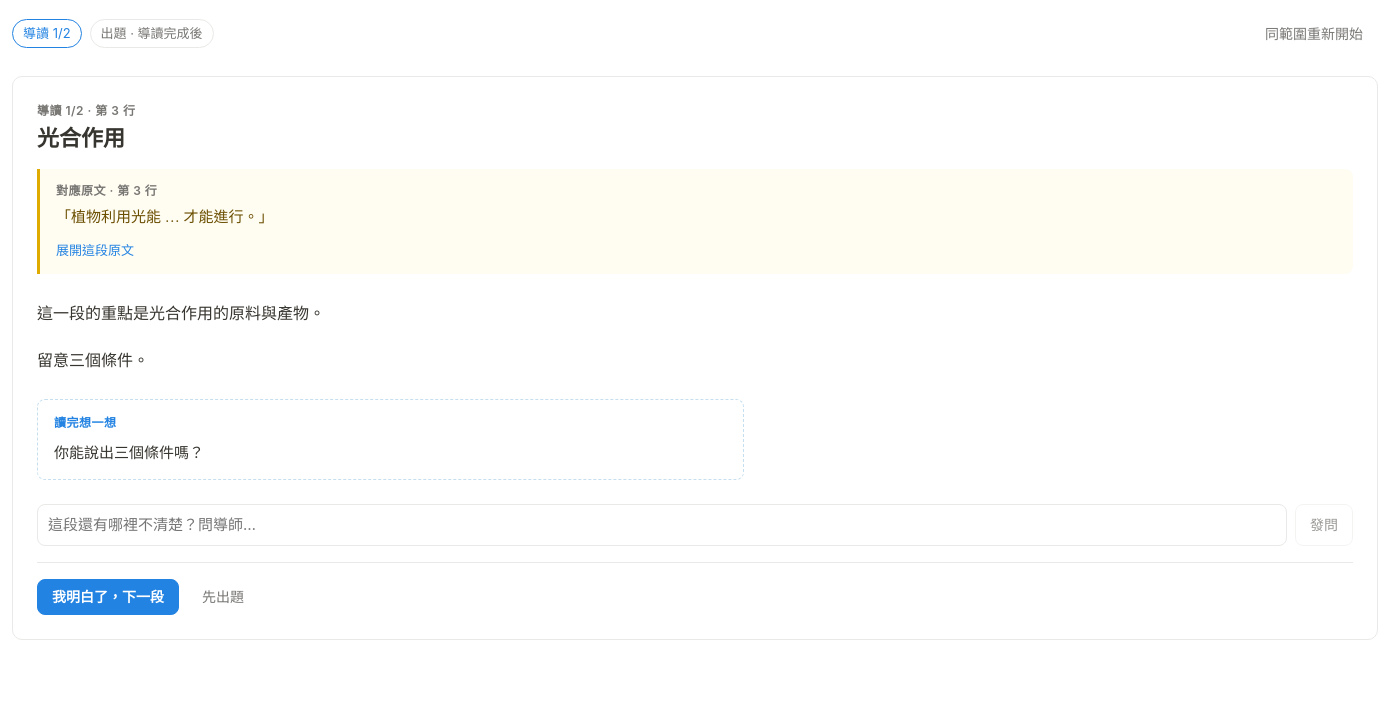
Test case: 導讀 (ReadingPanel) › fetches the guide of the current quote, lets the student ask, then moves on
Expected: the element with test id "reading" shows "導讀 1/2", [37, 103, 135, 118]
Expected: the text with test id "reading-step" reads "導讀 1/2", [23, 25, 71, 41]
In the field named "還有不懂的地方": (662, 525) [37, 504, 1287, 546], type "葉綠體是什麼？"
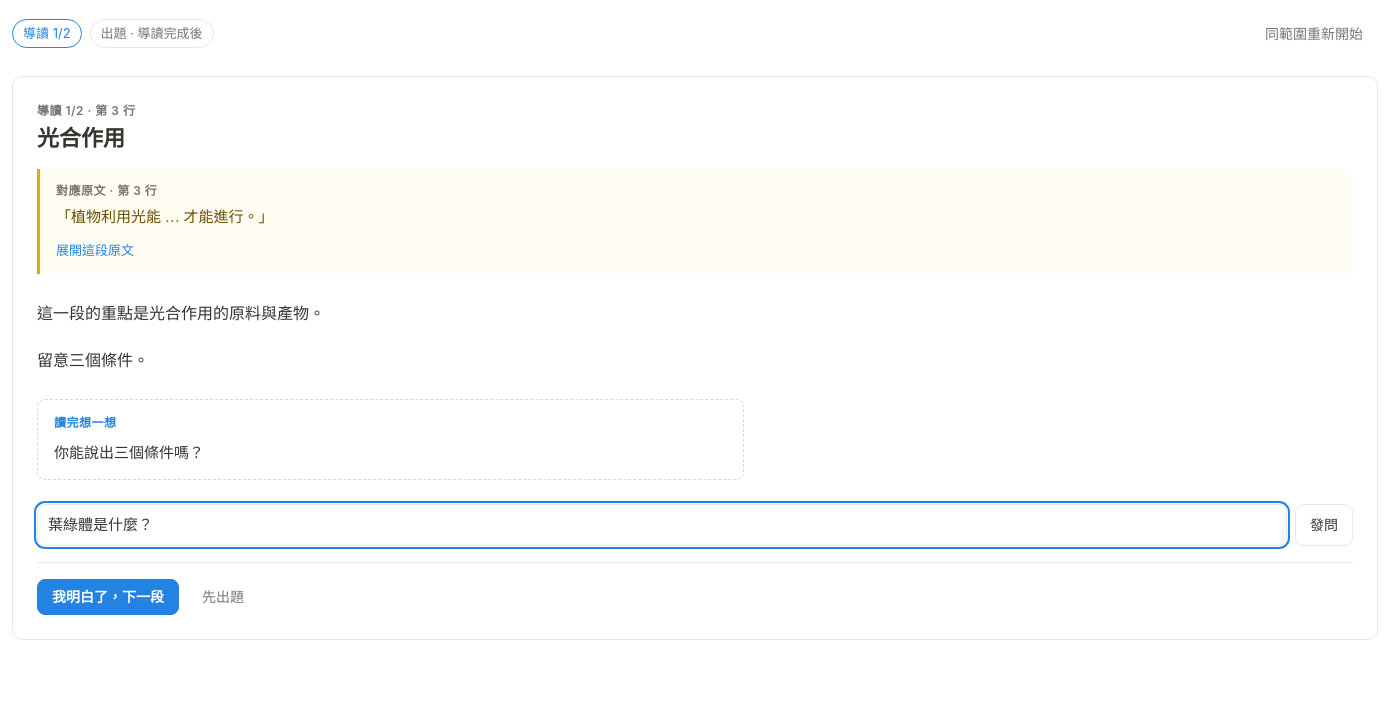
Click the button "發問": (1324, 525) [1295, 504, 1353, 546]
(page scrolled)
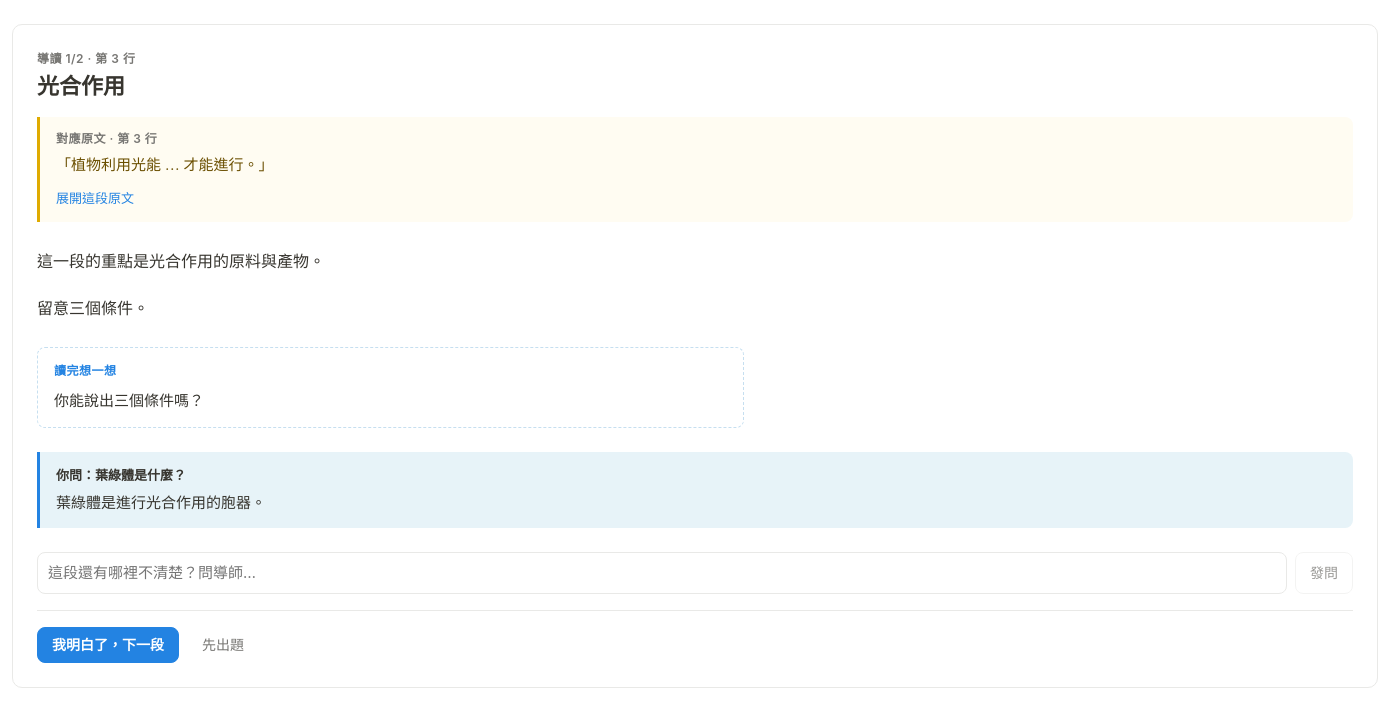
Expected: the element with test id "qa" shows "葉綠體是進行光合作用的胞器", [56, 493, 266, 512]
Click the button "我明白了，下一段": (108, 645) [37, 627, 179, 663]
(page scrolled)
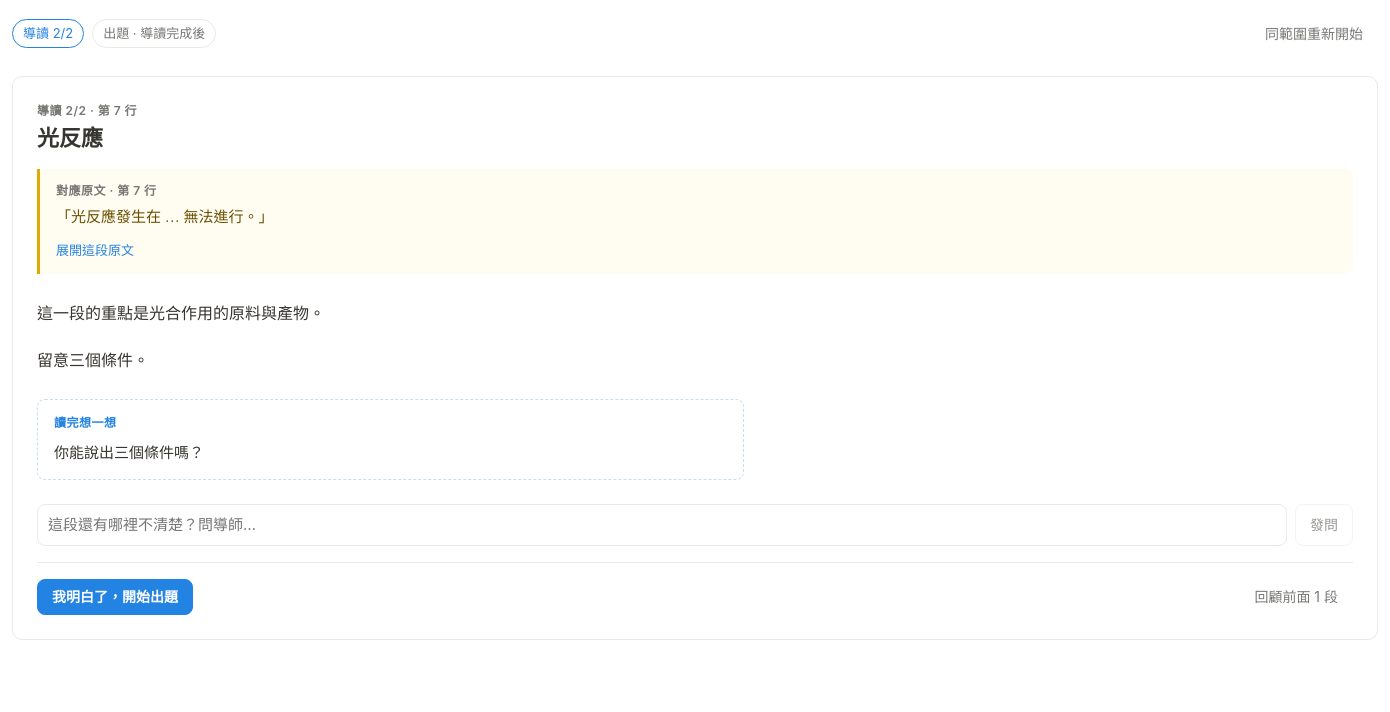
Expected: the element with test id "reading" shows "導讀 2/2", [37, 103, 137, 118]
Expected: the heading "光反應" is shown, [37, 126, 103, 151]
Expected: the button "我明白了，開始出題" is shown, [37, 579, 193, 615]
